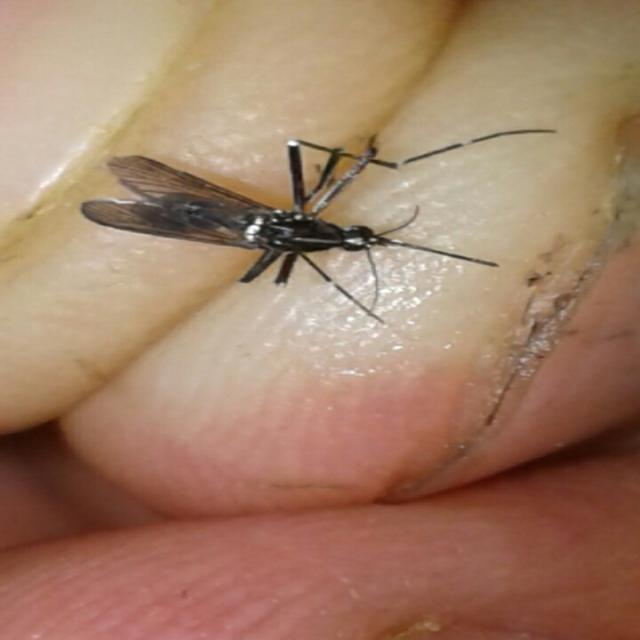albopictus: (68, 103, 556, 336)
